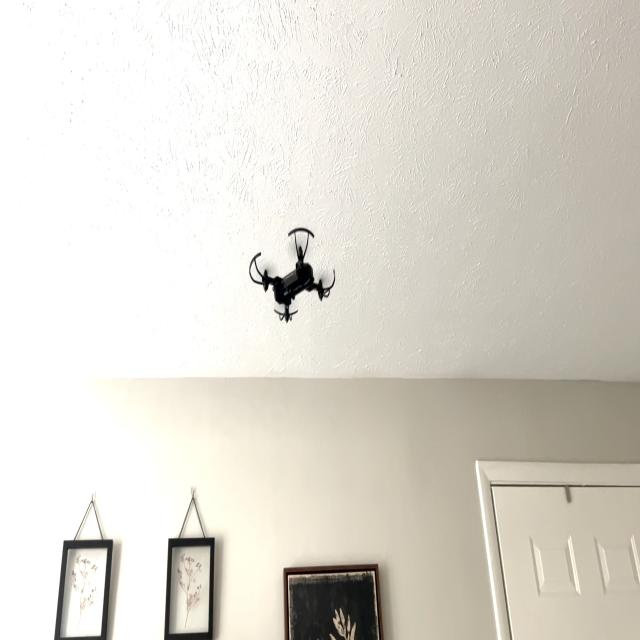drone: (242, 209, 344, 331)
